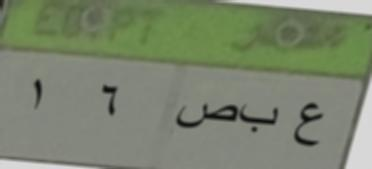1: (22, 66, 50, 117)
6: (94, 78, 122, 127)
ain: (290, 94, 324, 156)
baa: (238, 97, 280, 141)
saad: (172, 96, 238, 133)
